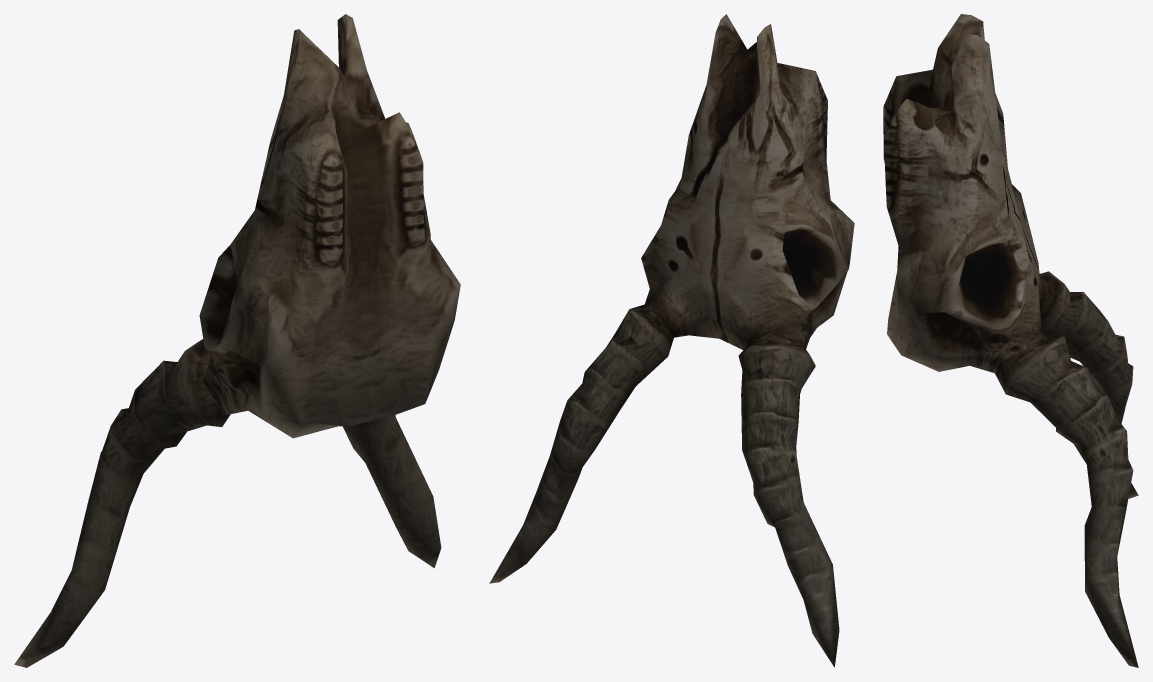
File: TI_Skull_Part_01.fbx
3 renders of one model, left to right at view 1: azimuth 30°, elevation 25°; view 2: azimuth 150°, elevation 25°; view 3: azimuth 270°, elevation 25°, orthographic. The views are drawn at different scales.
Visible parts, largest first — view 1: TI_Skull_Part_01; view 2: TI_Skull_Part_01; view 3: TI_Skull_Part_01.
Part boxes in pixels (left/top/right/bottom): TI_Skull_Part_01: left=14, top=14, right=460, bottom=667; TI_Skull_Part_01: left=489, top=14, right=854, bottom=667; TI_Skull_Part_01: left=883, top=14, right=1138, bottom=667.
Bounding box in the file's own units: 0.8708 × 1.31 × 0.5452.
